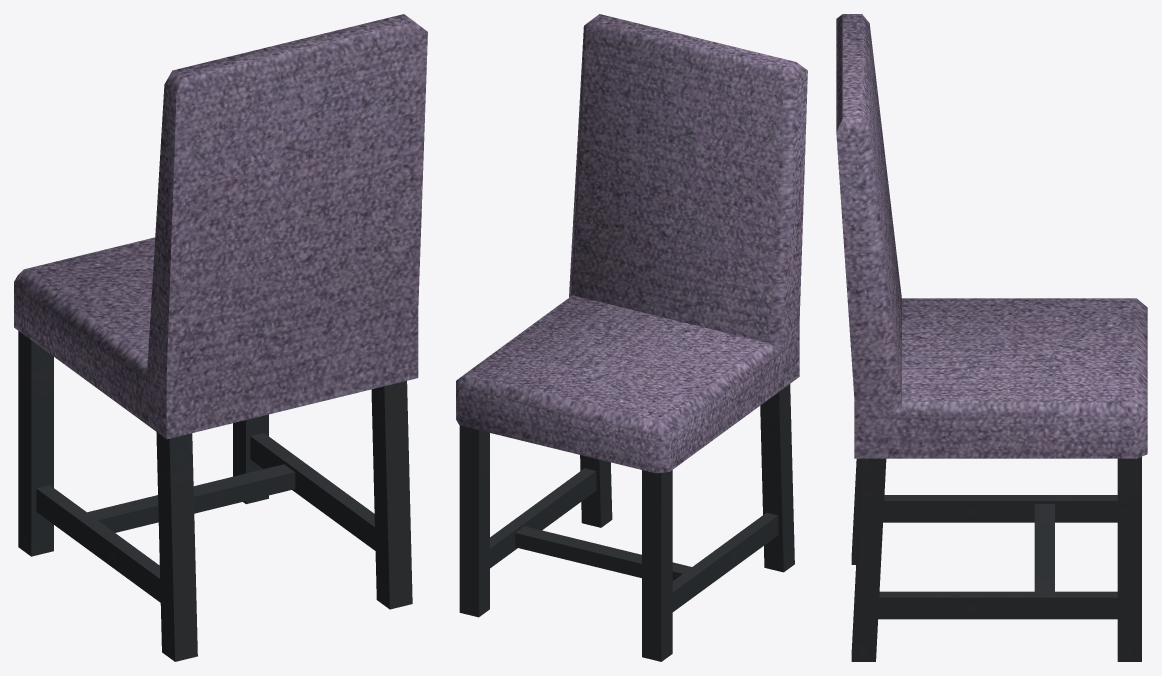
The model's file is Chair_11.glb.
3 views of the same model, side by side, from view 1: azimuth 30°, elevation 25°; view 2: azimuth 150°, elevation 25°; view 3: azimuth 270°, elevation 25° (orthographic). The views are drawn at different scales.
Parts seen in each view (by area): view 1: Chair_11; view 2: Chair_11; view 3: Chair_11.
Boxes of the visible parts, x1,y1,x2,y2 form: Chair_11: (14,14,427,661); Chair_11: (456,14,807,661); Chair_11: (836,14,1147,661).
Bounding box in the file's own units: 0.516 × 1.15 × 0.5988.
Materials: 2 (2 with a texture image).
